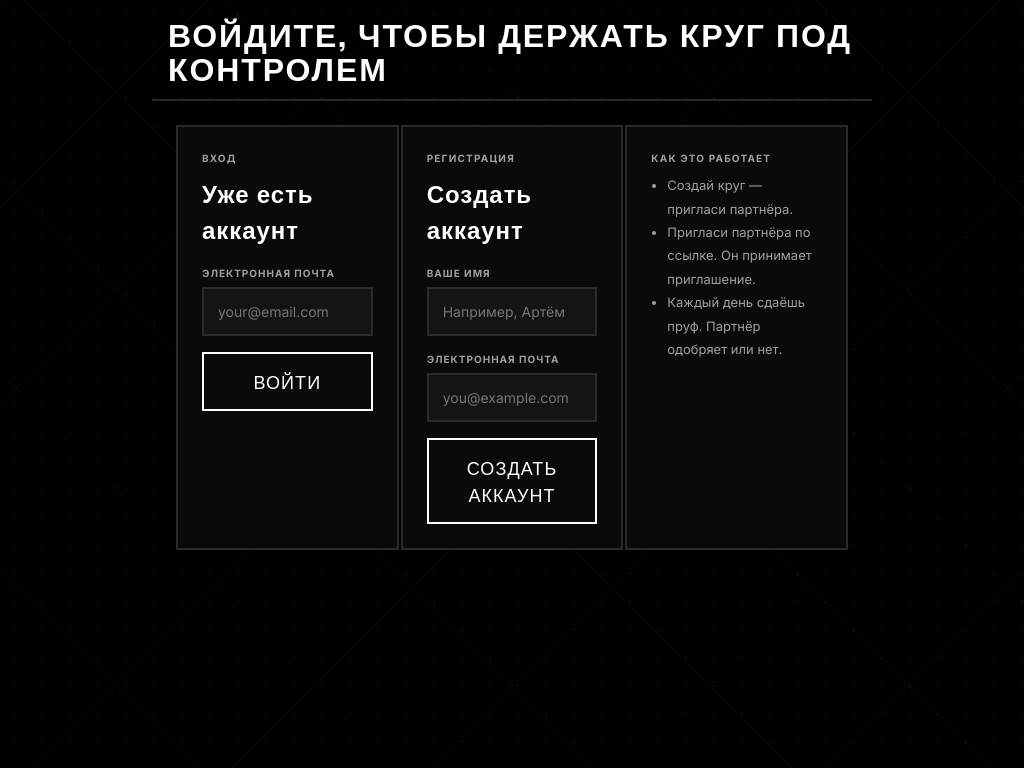
it: DashboardScreen › registration completes and reveals empty-state card
Expected: the button "СОЗДАТЬ АККАУНТ" is shown, [427,438,597,524]
In the field with placeholder "Например, Артём": (512, 312) [427,287,597,336], type "Owner"
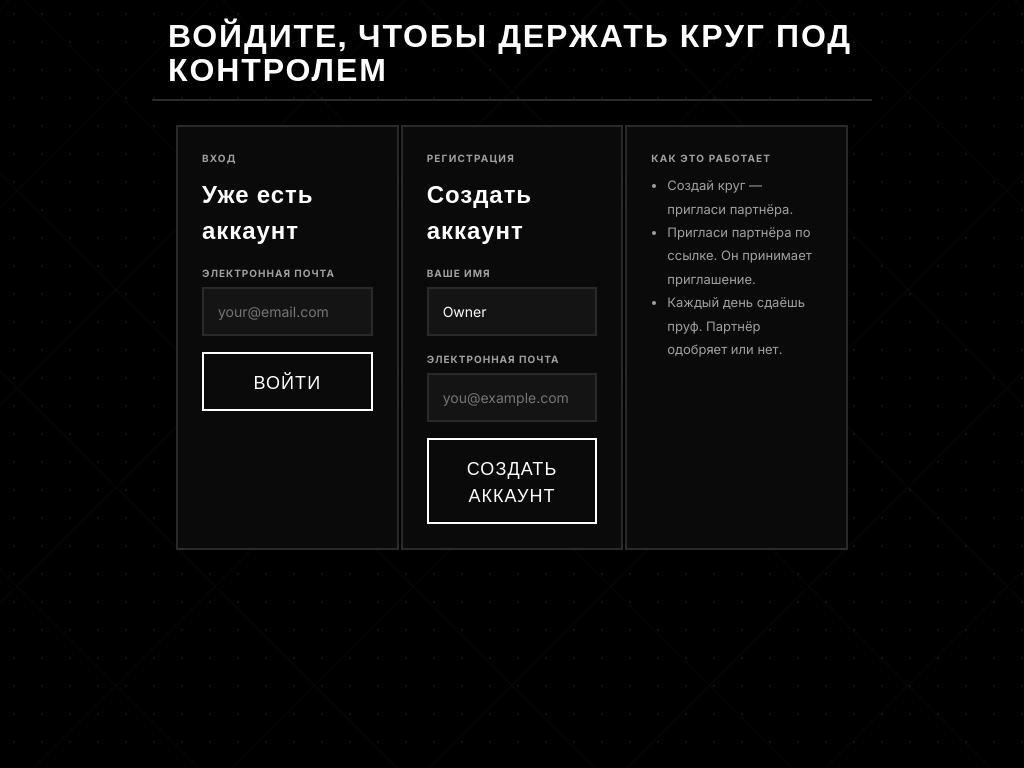
In the field with placeholder "you@example.com" below "ВАШЕ ИМЯ": (512, 398) [427,373,597,422], type "owner@example.com"
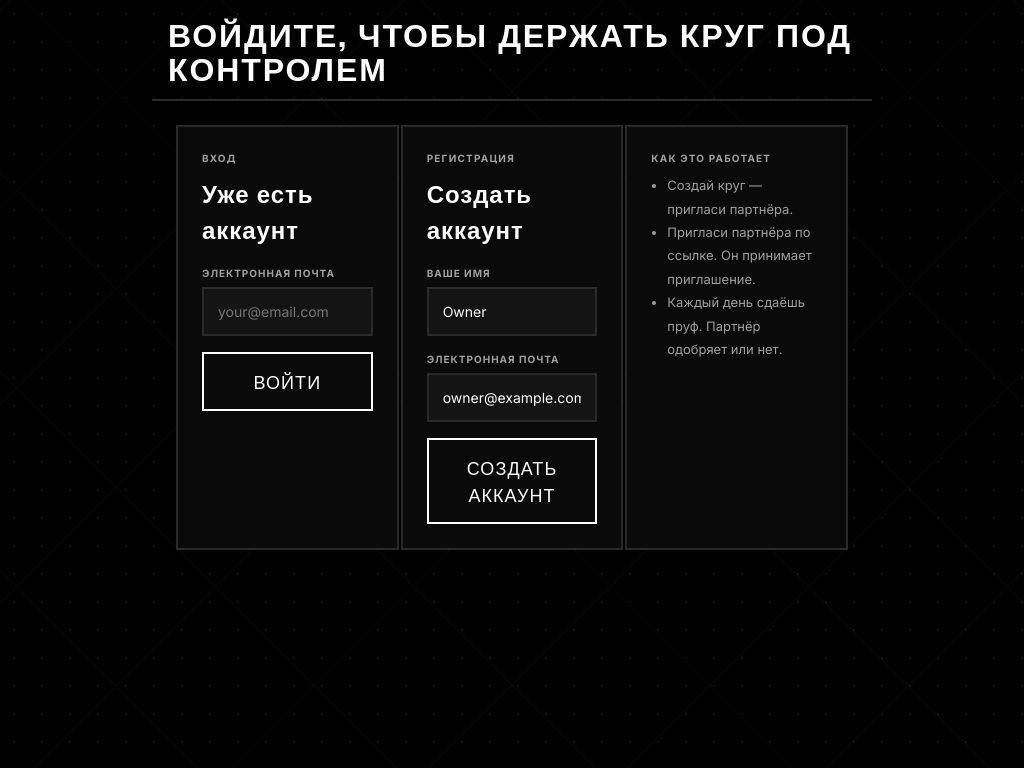
Submit the form "СОЗДАТЬ АККАУНТ", box [427,266,597,524]
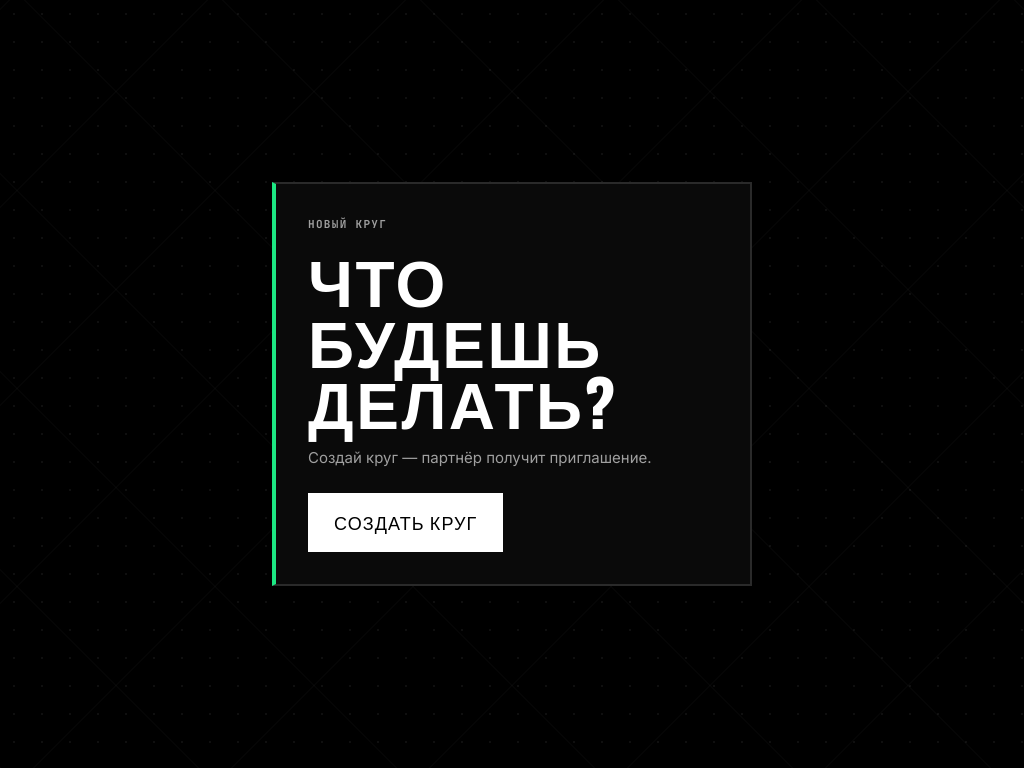
Expected: the heading "ЧТО БУДЕШЬ ДЕЛАТЬ?" is shown, [308,231,618,447]
Expected: the link "СОЗДАТЬ КРУГ" is shown, [308,493,503,552]
